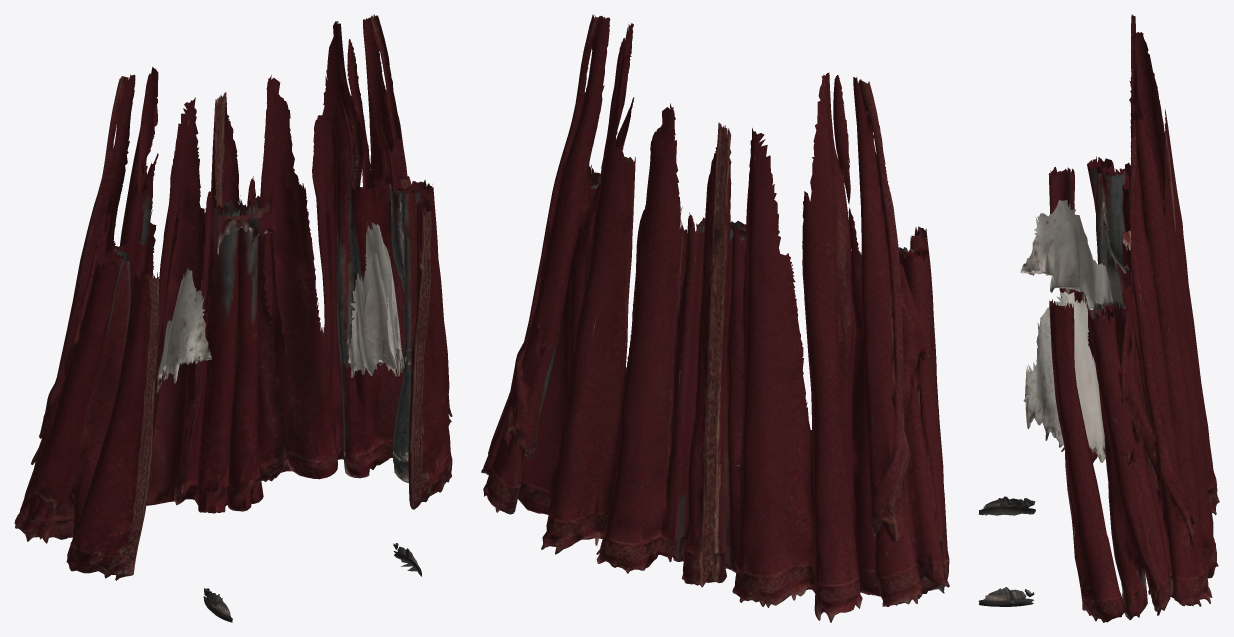
Rendered from templar_cloak.glb.
The picture shows the model from 3 angles, left to right: view 1: azimuth 30°, elevation 25°; view 2: azimuth 150°, elevation 25°; view 3: azimuth 270°, elevation 25°; orthographic projection. The views are drawn at different scales.
Bounding box in the file's own units: 1.15 × 1.26 × 0.5652.
1 material, 1 textured.
